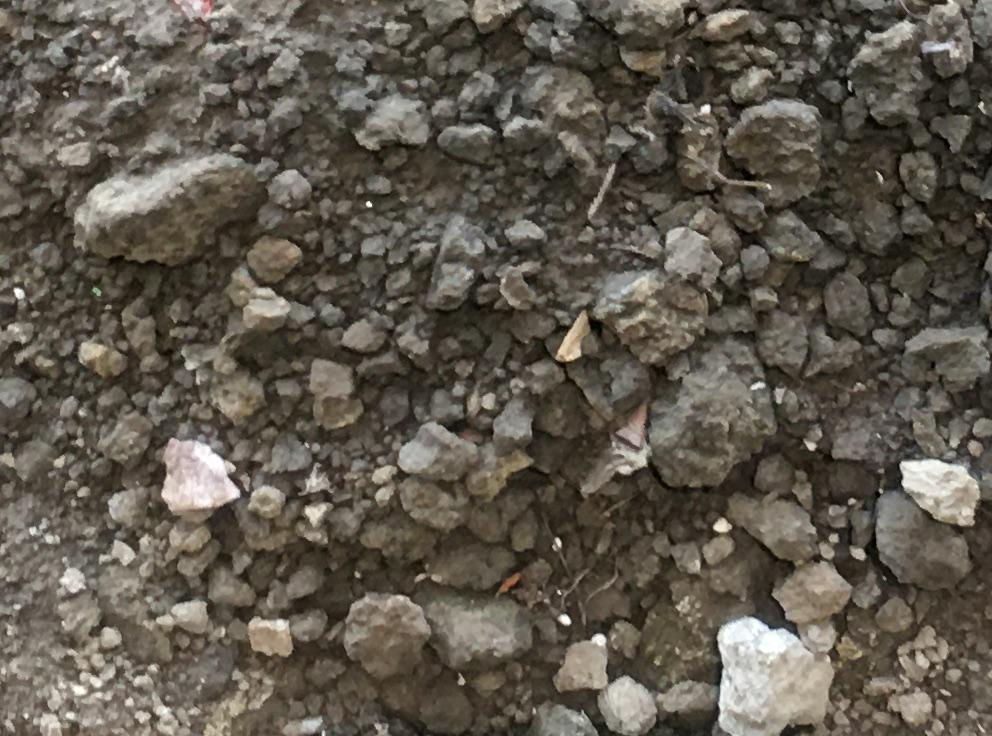block: (64, 150, 262, 266), (653, 344, 777, 493), (712, 618, 840, 736), (415, 580, 531, 672)
